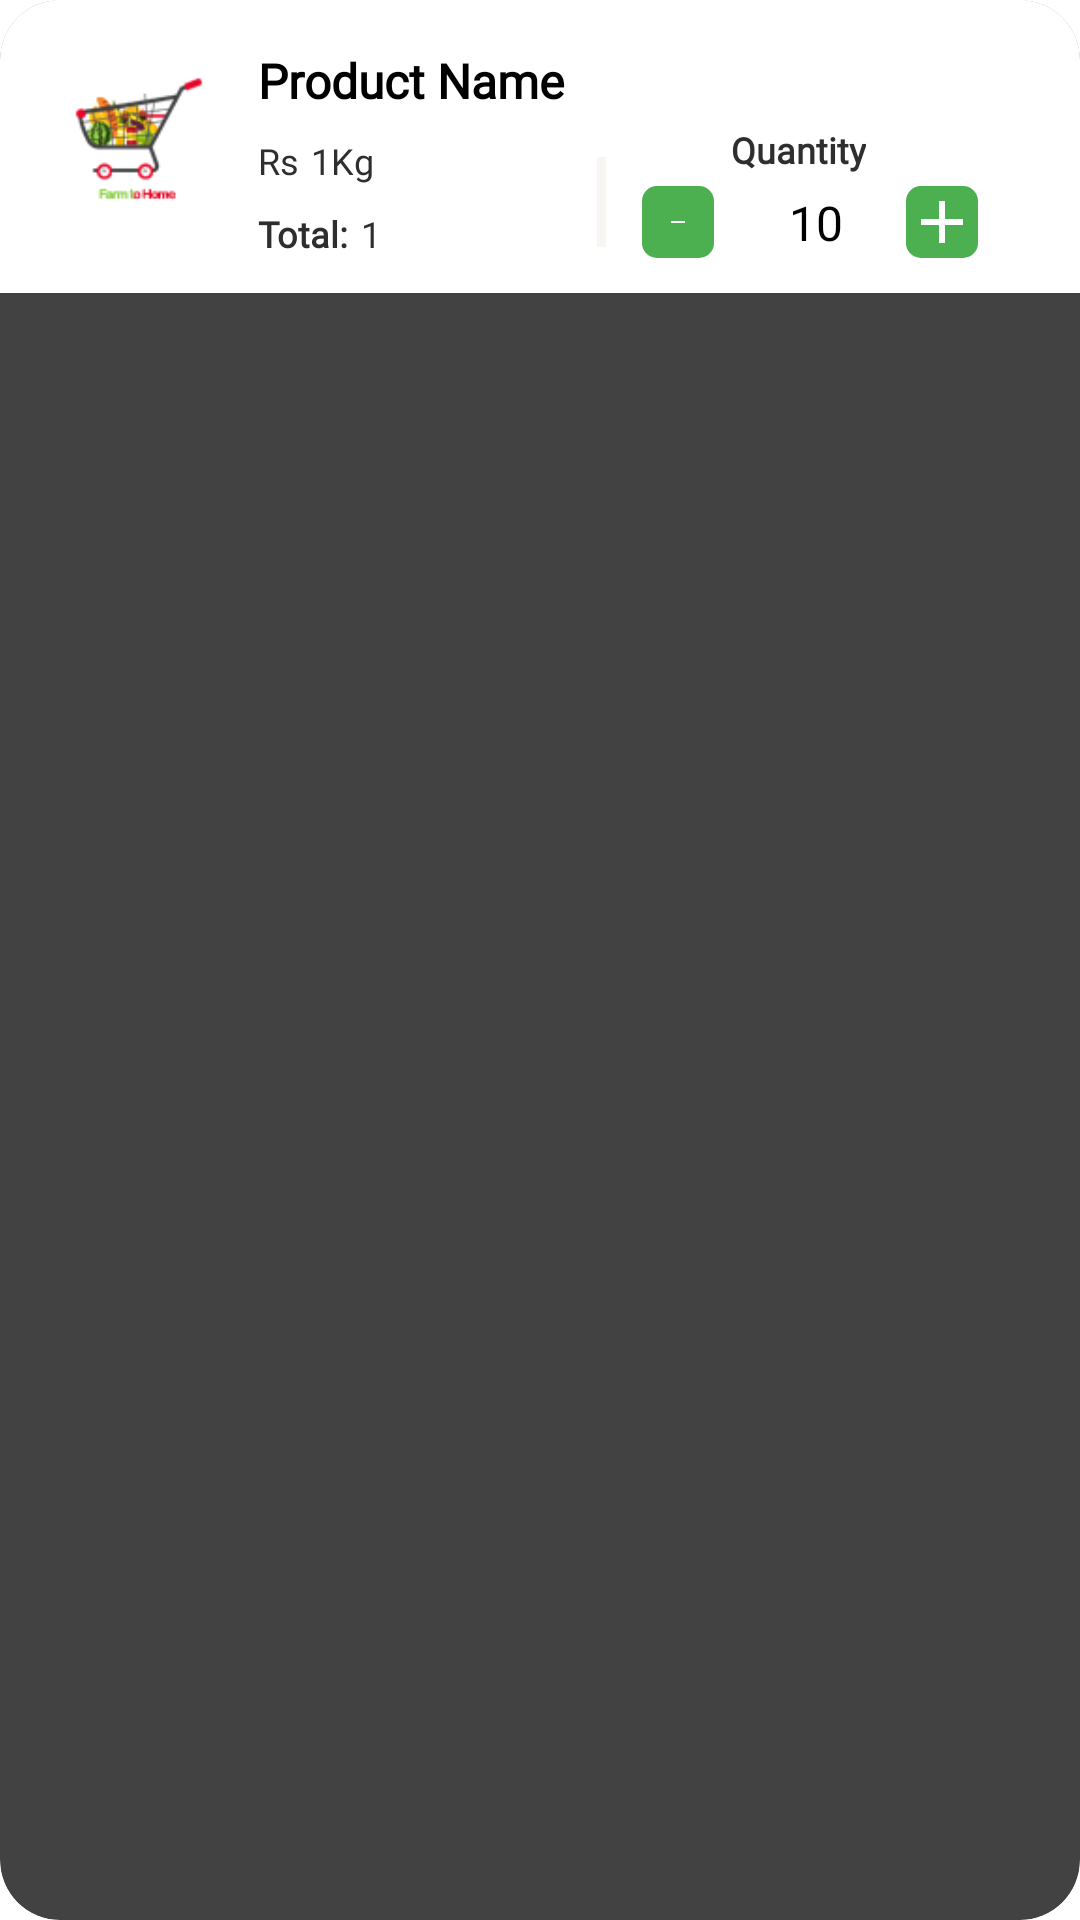

Named icons in this screenshot (1080px x 1920px) and their bounding boxes, (x1, y1, x2, y2):
add product qty: (906, 186, 978, 258)
subtract product qty: (642, 186, 714, 258)
